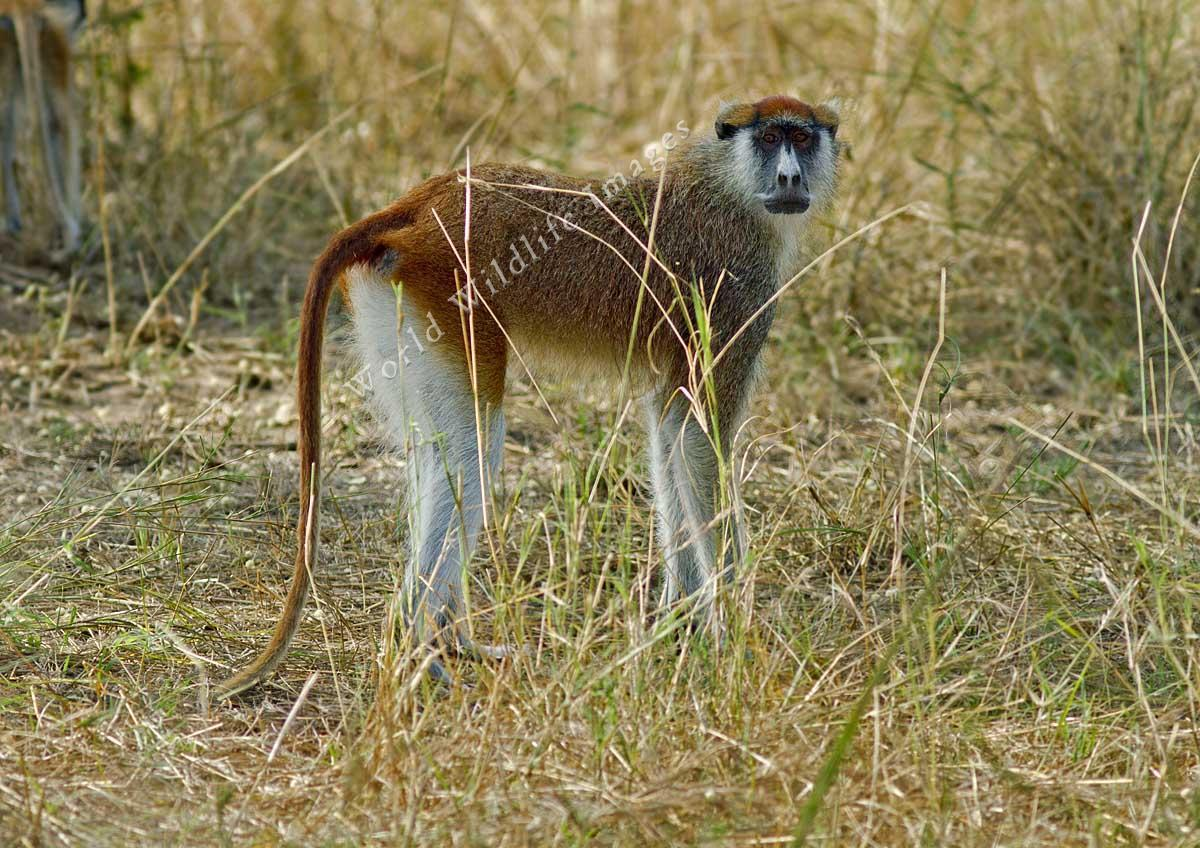monkey: (253, 96, 844, 679)
